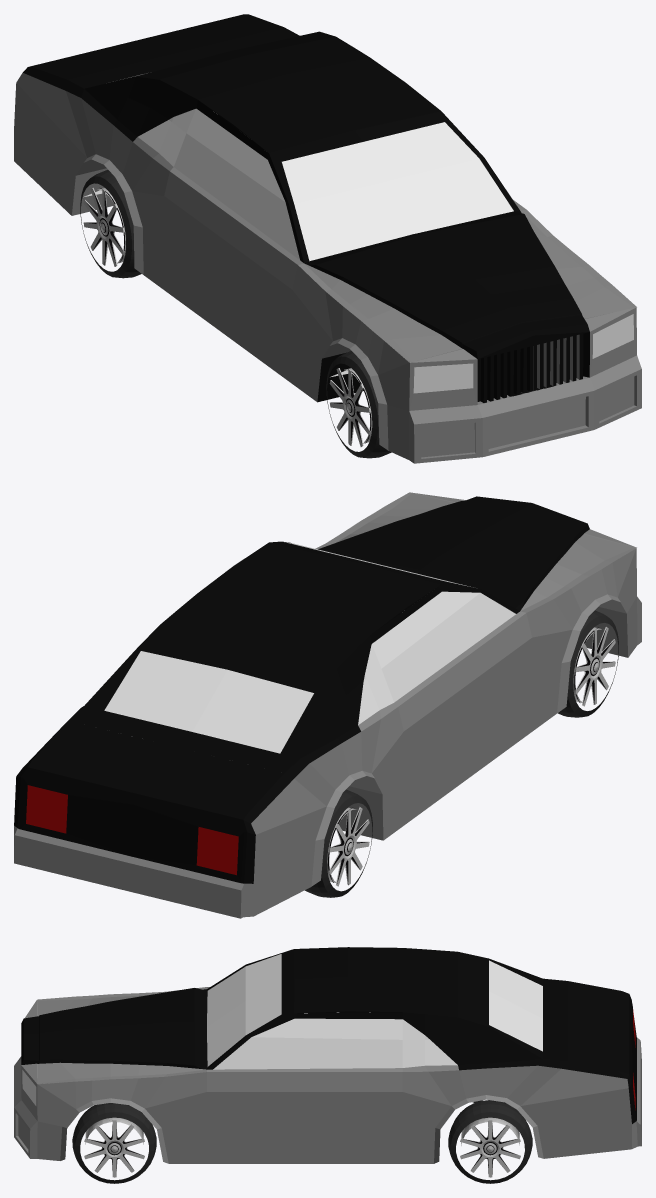
The model's file is rolls-royce-classic.glb.
3 views of the same model, one above another, from view 1: azimuth 30°, elevation 25°; view 2: azimuth 150°, elevation 25°; view 3: azimuth 270°, elevation 25° (orthographic). The views are drawn at different scales.
Parts seen in each view (by area): view 1: rollsRoyce_Plane.001, CG_wheel_3, CG_wheel_2; view 2: rollsRoyce_Plane.001, CG_wheel_3, CG_wheel_2; view 3: rollsRoyce_Plane.001, CG_wheel_1, CG_wheel_0.
Part boxes in pixels (left/top/right/bottom): rollsRoyce_Plane.001: left=14, top=14, right=641, bottom=463; CG_wheel_3: left=80, top=170, right=141, bottom=278; CG_wheel_2: left=326, top=351, right=391, bottom=458; rollsRoyce_Plane.001: left=14, top=492, right=641, bottom=918; CG_wheel_3: left=305, top=789, right=372, bottom=897; CG_wheel_2: left=558, top=610, right=618, bottom=717; rollsRoyce_Plane.001: left=14, top=947, right=641, bottom=1163; CG_wheel_1: left=448, top=1100, right=532, bottom=1183; CG_wheel_0: left=72, top=1103, right=156, bottom=1183.
Bounding box in the file's own units: 1.82 × 1.49 × 5.17.
